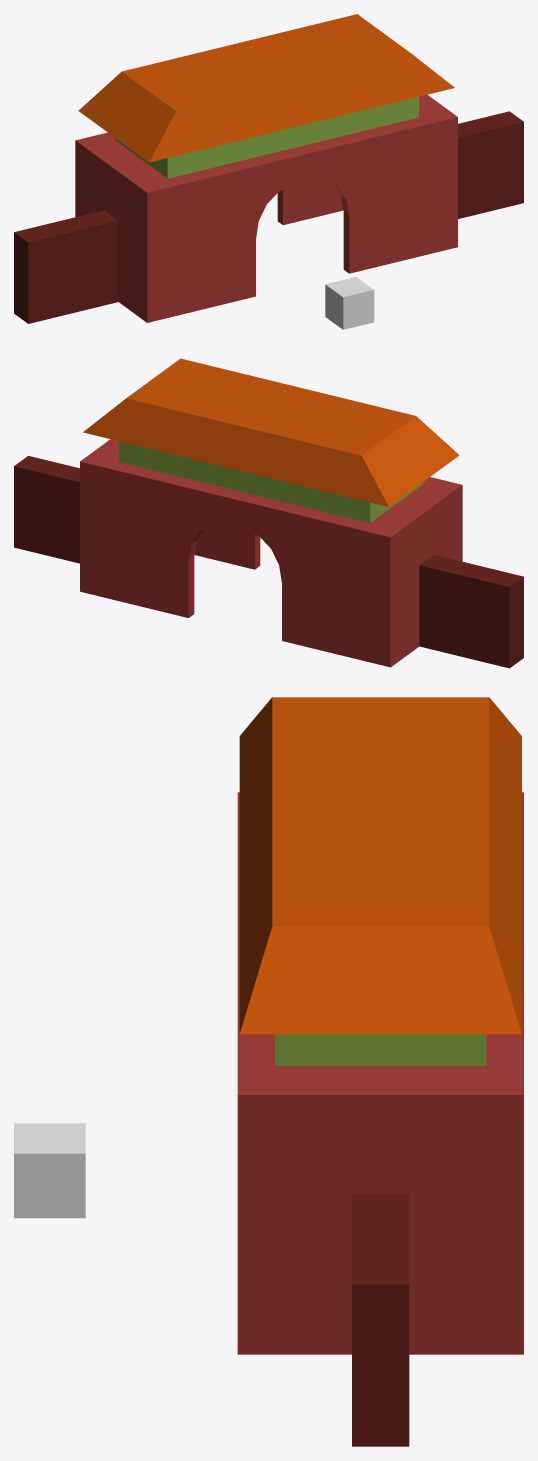
Rendered from temple-entrance.glb.
The picture shows the model from 3 angles, top to bottom: view 1: azimuth 30°, elevation 25°; view 2: azimuth 150°, elevation 25°; view 3: azimuth 270°, elevation 25°; orthographic projection. The views are drawn at different scales.
Visible parts, largest first — view 1: Cube, Cube.003, Cube.001, Cube.005, Cube.002, Cube.001-noimp; view 2: Cube, Cube.003, Cube.001, Cube.005, Cube.002; view 3: Cube.003, Cube, Cube.005, Cube.001-noimp, Cube.002.
Boxes of the visible parts, x1=… form: Cube: x1=75, y1=94, x2=457, y2=322; Cube.003: x1=78, y1=14, x2=454, y2=162; Cube.001: x1=14, y1=210, x2=118, y2=323; Cube.005: x1=458, y1=111, x2=523, y2=218; Cube.002: x1=114, y1=97, x2=418, y2=178; Cube.001-noimp: x1=325, y1=277, x2=374, y2=329; Cube: x1=80, y1=439, x2=462, y2=667; Cube.003: x1=83, y1=358, x2=459, y2=506; Cube.001: x1=419, y1=555, x2=523, y2=668; Cube.005: x1=14, y1=456, x2=79, y2=563; Cube.002: x1=119, y1=441, x2=423, y2=522; Cube.003: x1=239, y1=697, x2=521, y2=1034; Cube: x1=237, y1=792, x2=523, y2=1354; Cube.005: x1=352, y1=1193, x2=409, y2=1446; Cube.001-noimp: x1=14, y1=1123, x2=85, y2=1218; Cube.002: x1=275, y1=1034, x2=486, y2=1065.
Size of the model in its own units: 31.89 by 12.06 by 14.25.
